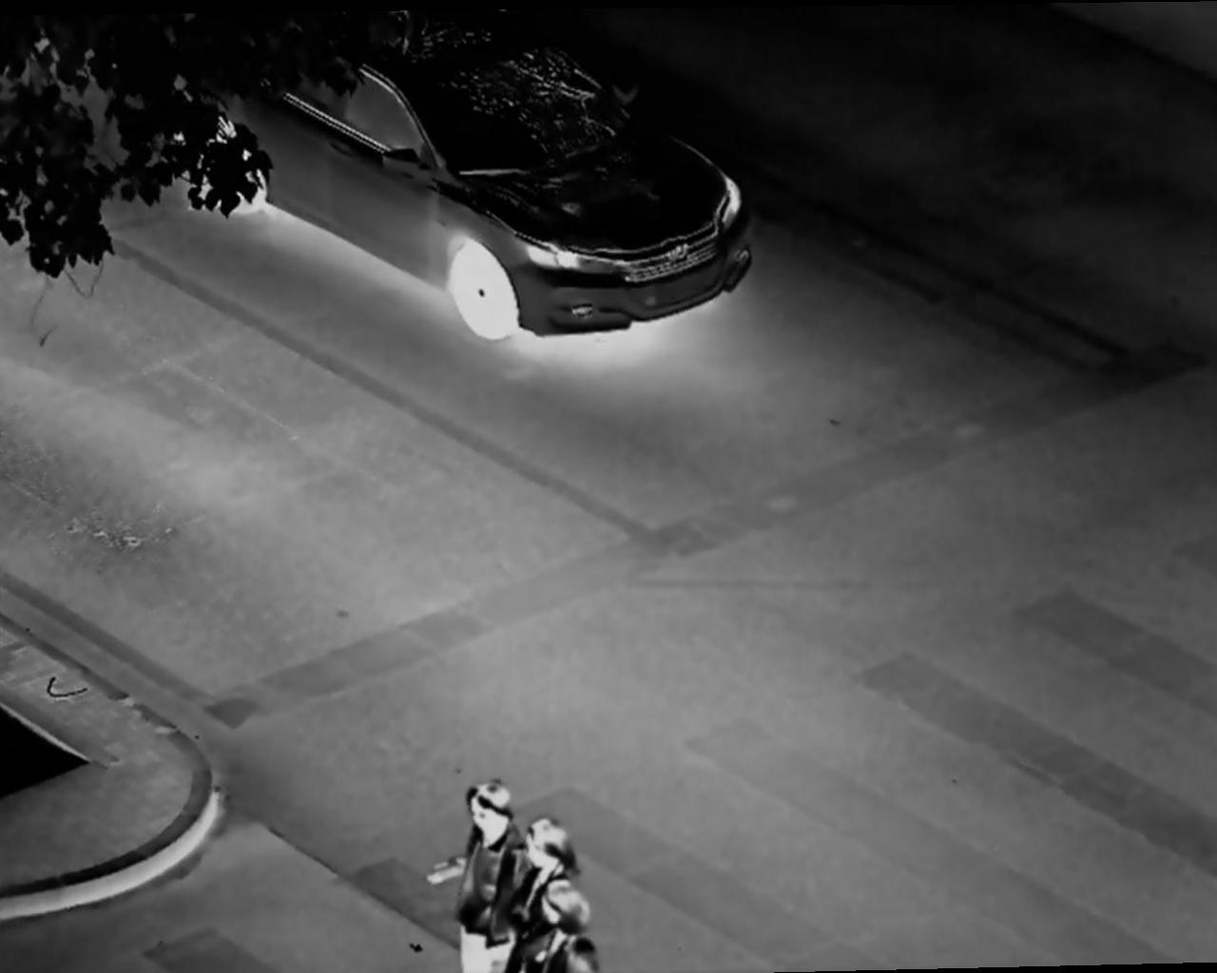person: (428, 776, 512, 966), (514, 820, 596, 973)
